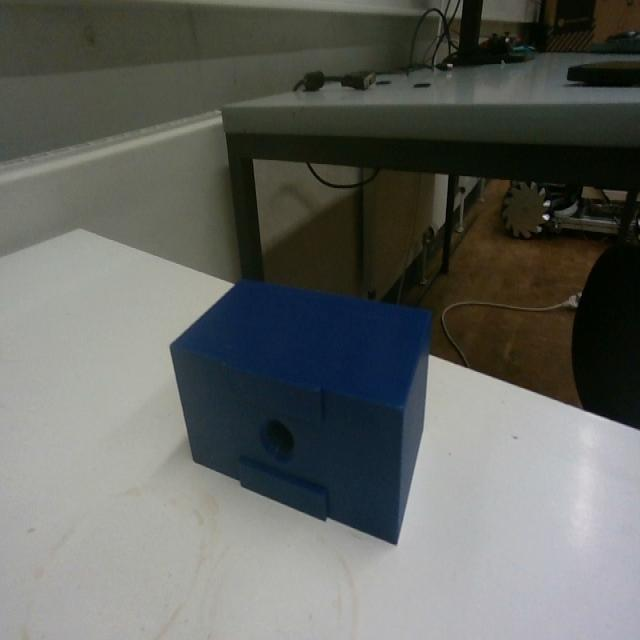Blue Cuboid: (167, 272, 434, 545)
